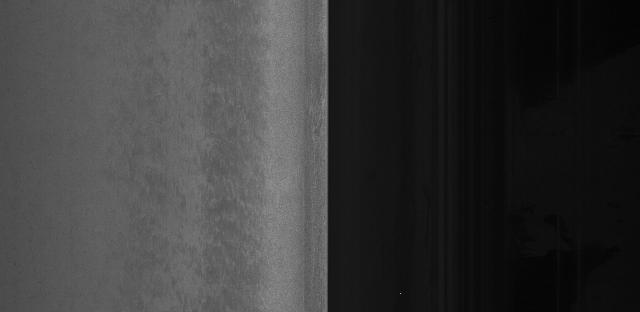silk_spot: (200, 60, 282, 242)
